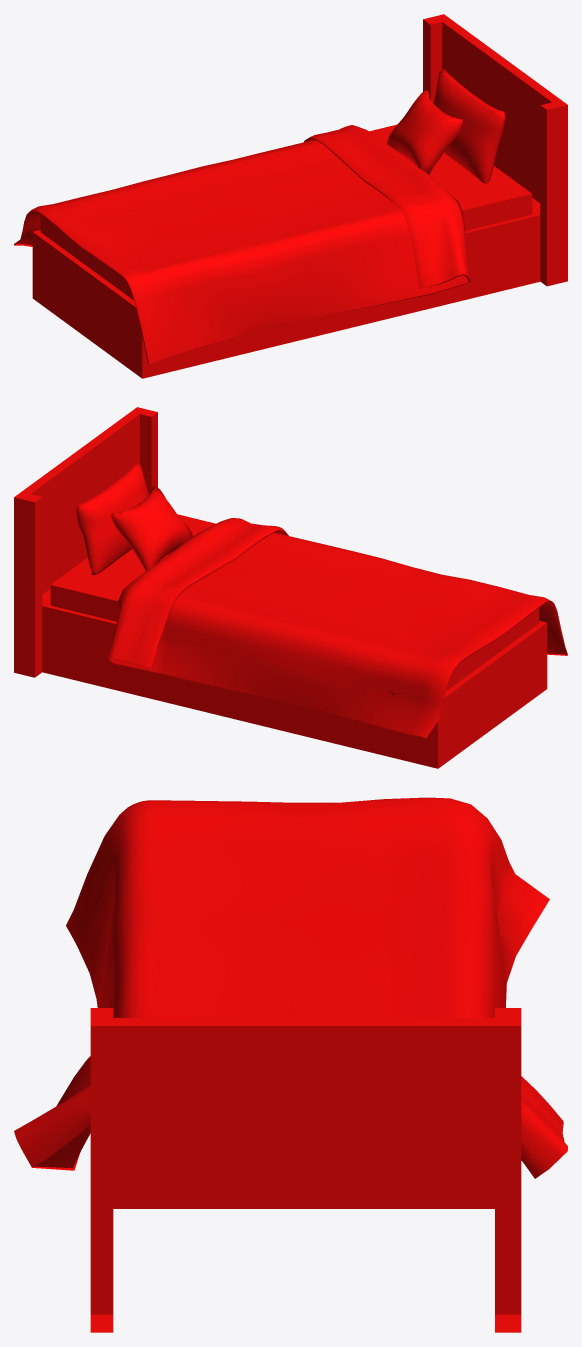
File: single bed 11.fbx
3 views of the same model, one above another, from view 1: azimuth 30°, elevation 25°; view 2: azimuth 150°, elevation 25°; view 3: azimuth 270°, elevation 25° (orthographic). The views are drawn at different scales.
Parts seen in each view (by area): view 1: Object002; view 2: Object002; view 3: Object002.
Boxes of the visible parts, x1,y1,x2,y2 form: Object002: (14, 14, 567, 378); Object002: (14, 407, 567, 768); Object002: (14, 797, 567, 1332).
Bounding box in the file's own units: 215 × 84.71 × 139.
